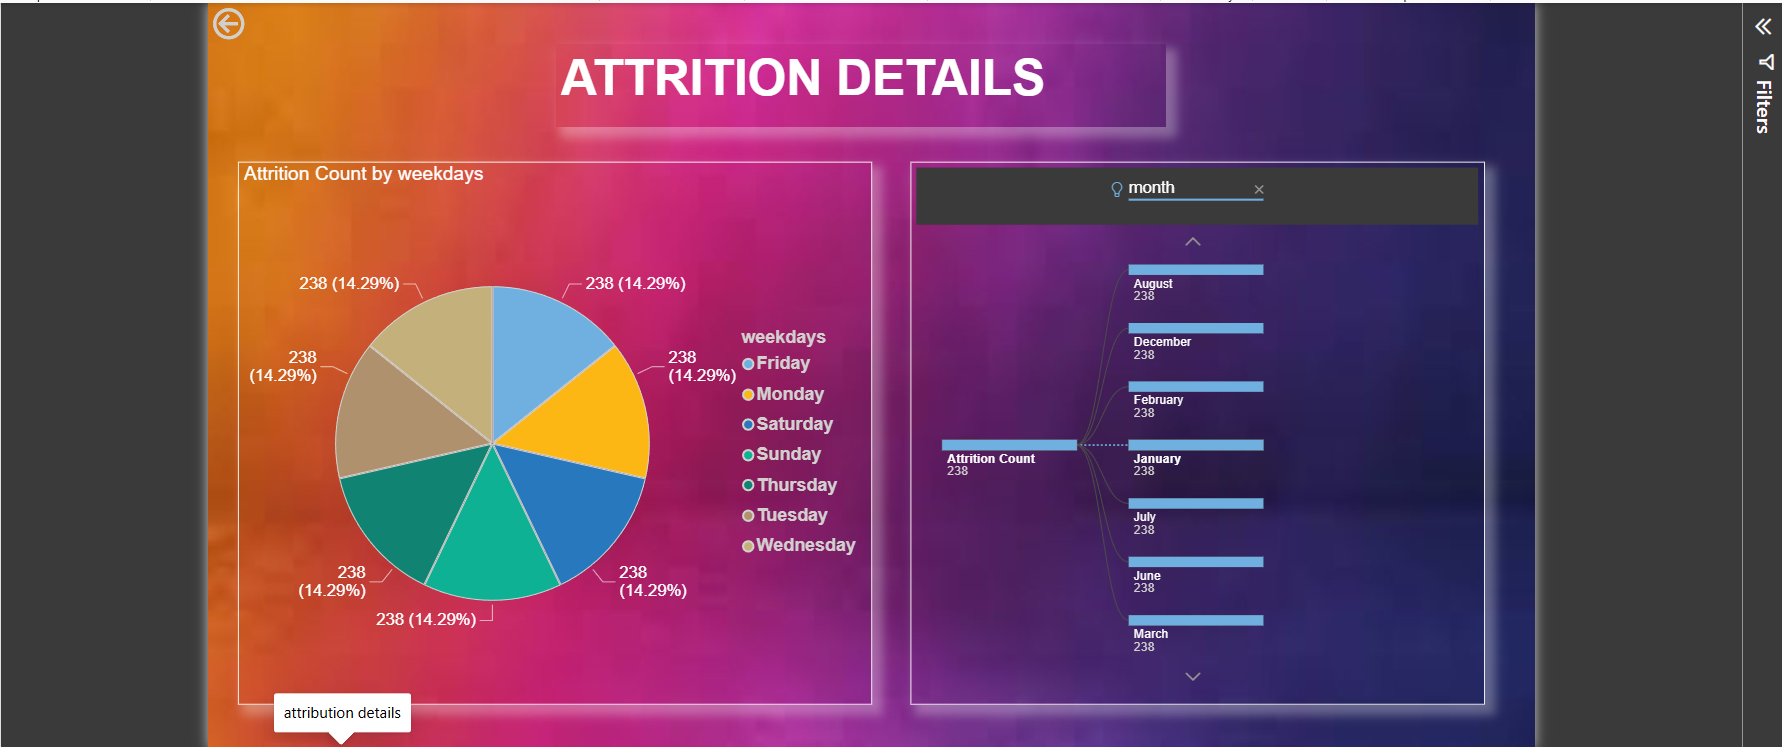

This screenshot's page, from the dashboard's own definition file:
{"tool":"powerbi","page":{"name":"attribution details","canvas":[1280,720],"ordinal":1},"visuals":[{"type":"actionButton","box":[0,0,100,40],"z":0},{"type":"decompositionTreeVisual","fields":{"ExplainBy":["calender.month"],"Analyze":["HR_Analytics.Attrition Count"]},"box":[677.6,153.8,554.3,523.9],"z":1000},{"type":"actionButton","box":[0,0,100,40],"z":2000},{"type":"pieChart","fields":{"Category":["calender.weekdays"],"Y":["HR_Analytics.Attrition Count"]},"box":[28.8,153.8,612,523.9],"z":3000},{"type":"textbox","box":[334.8,40.1,589.5,80.1],"z":4000}]}

Visuals, with their boxes on the page's 1280x720 design canvas (x1, y1, x2, y2). These are canvas units, not pixel positions in the 1782x747 screenshot, which may show the page scaled, cropped or inside an application window:
actionButton: detection(0, 0, 100, 40)
decompositionTreeVisual - calender.month x HR_Analytics.Attrition Count: detection(678, 154, 1232, 678)
actionButton: detection(0, 0, 100, 40)
pieChart - calender.weekdays x HR_Analytics.Attrition Count: detection(29, 154, 641, 678)
textbox: detection(335, 40, 924, 120)
